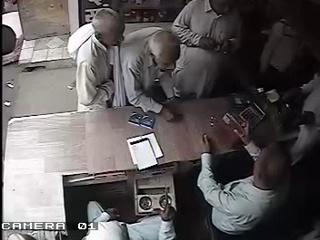Normal: (196, 123, 292, 240), (170, 0, 243, 101), (119, 27, 181, 118), (81, 200, 177, 240)
shoplifting: (67, 8, 126, 112)
